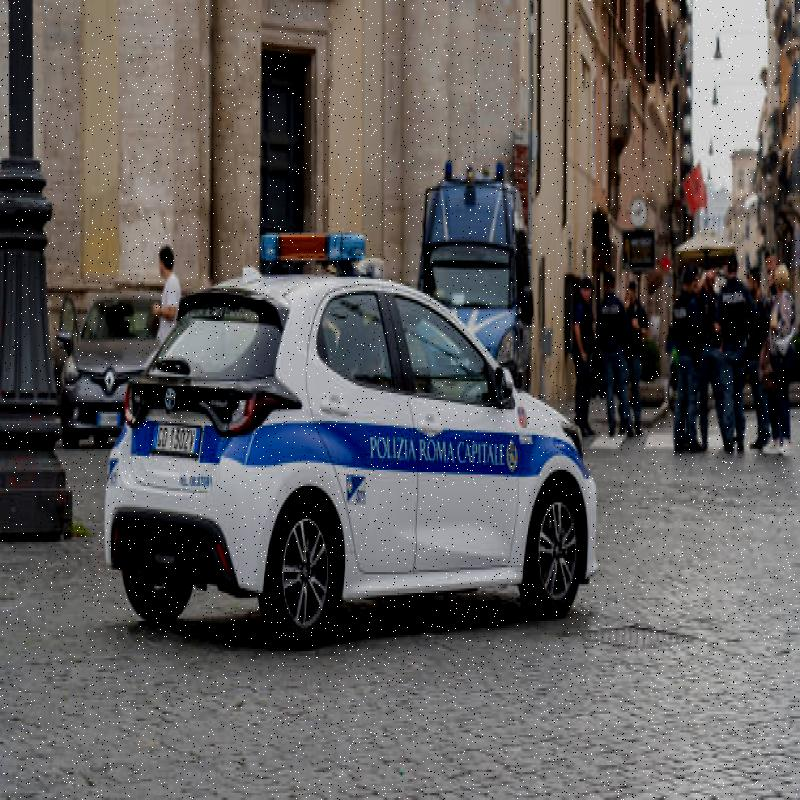AmbulanceSiren: (247, 206, 370, 274), (487, 152, 510, 189), (443, 156, 462, 198)
